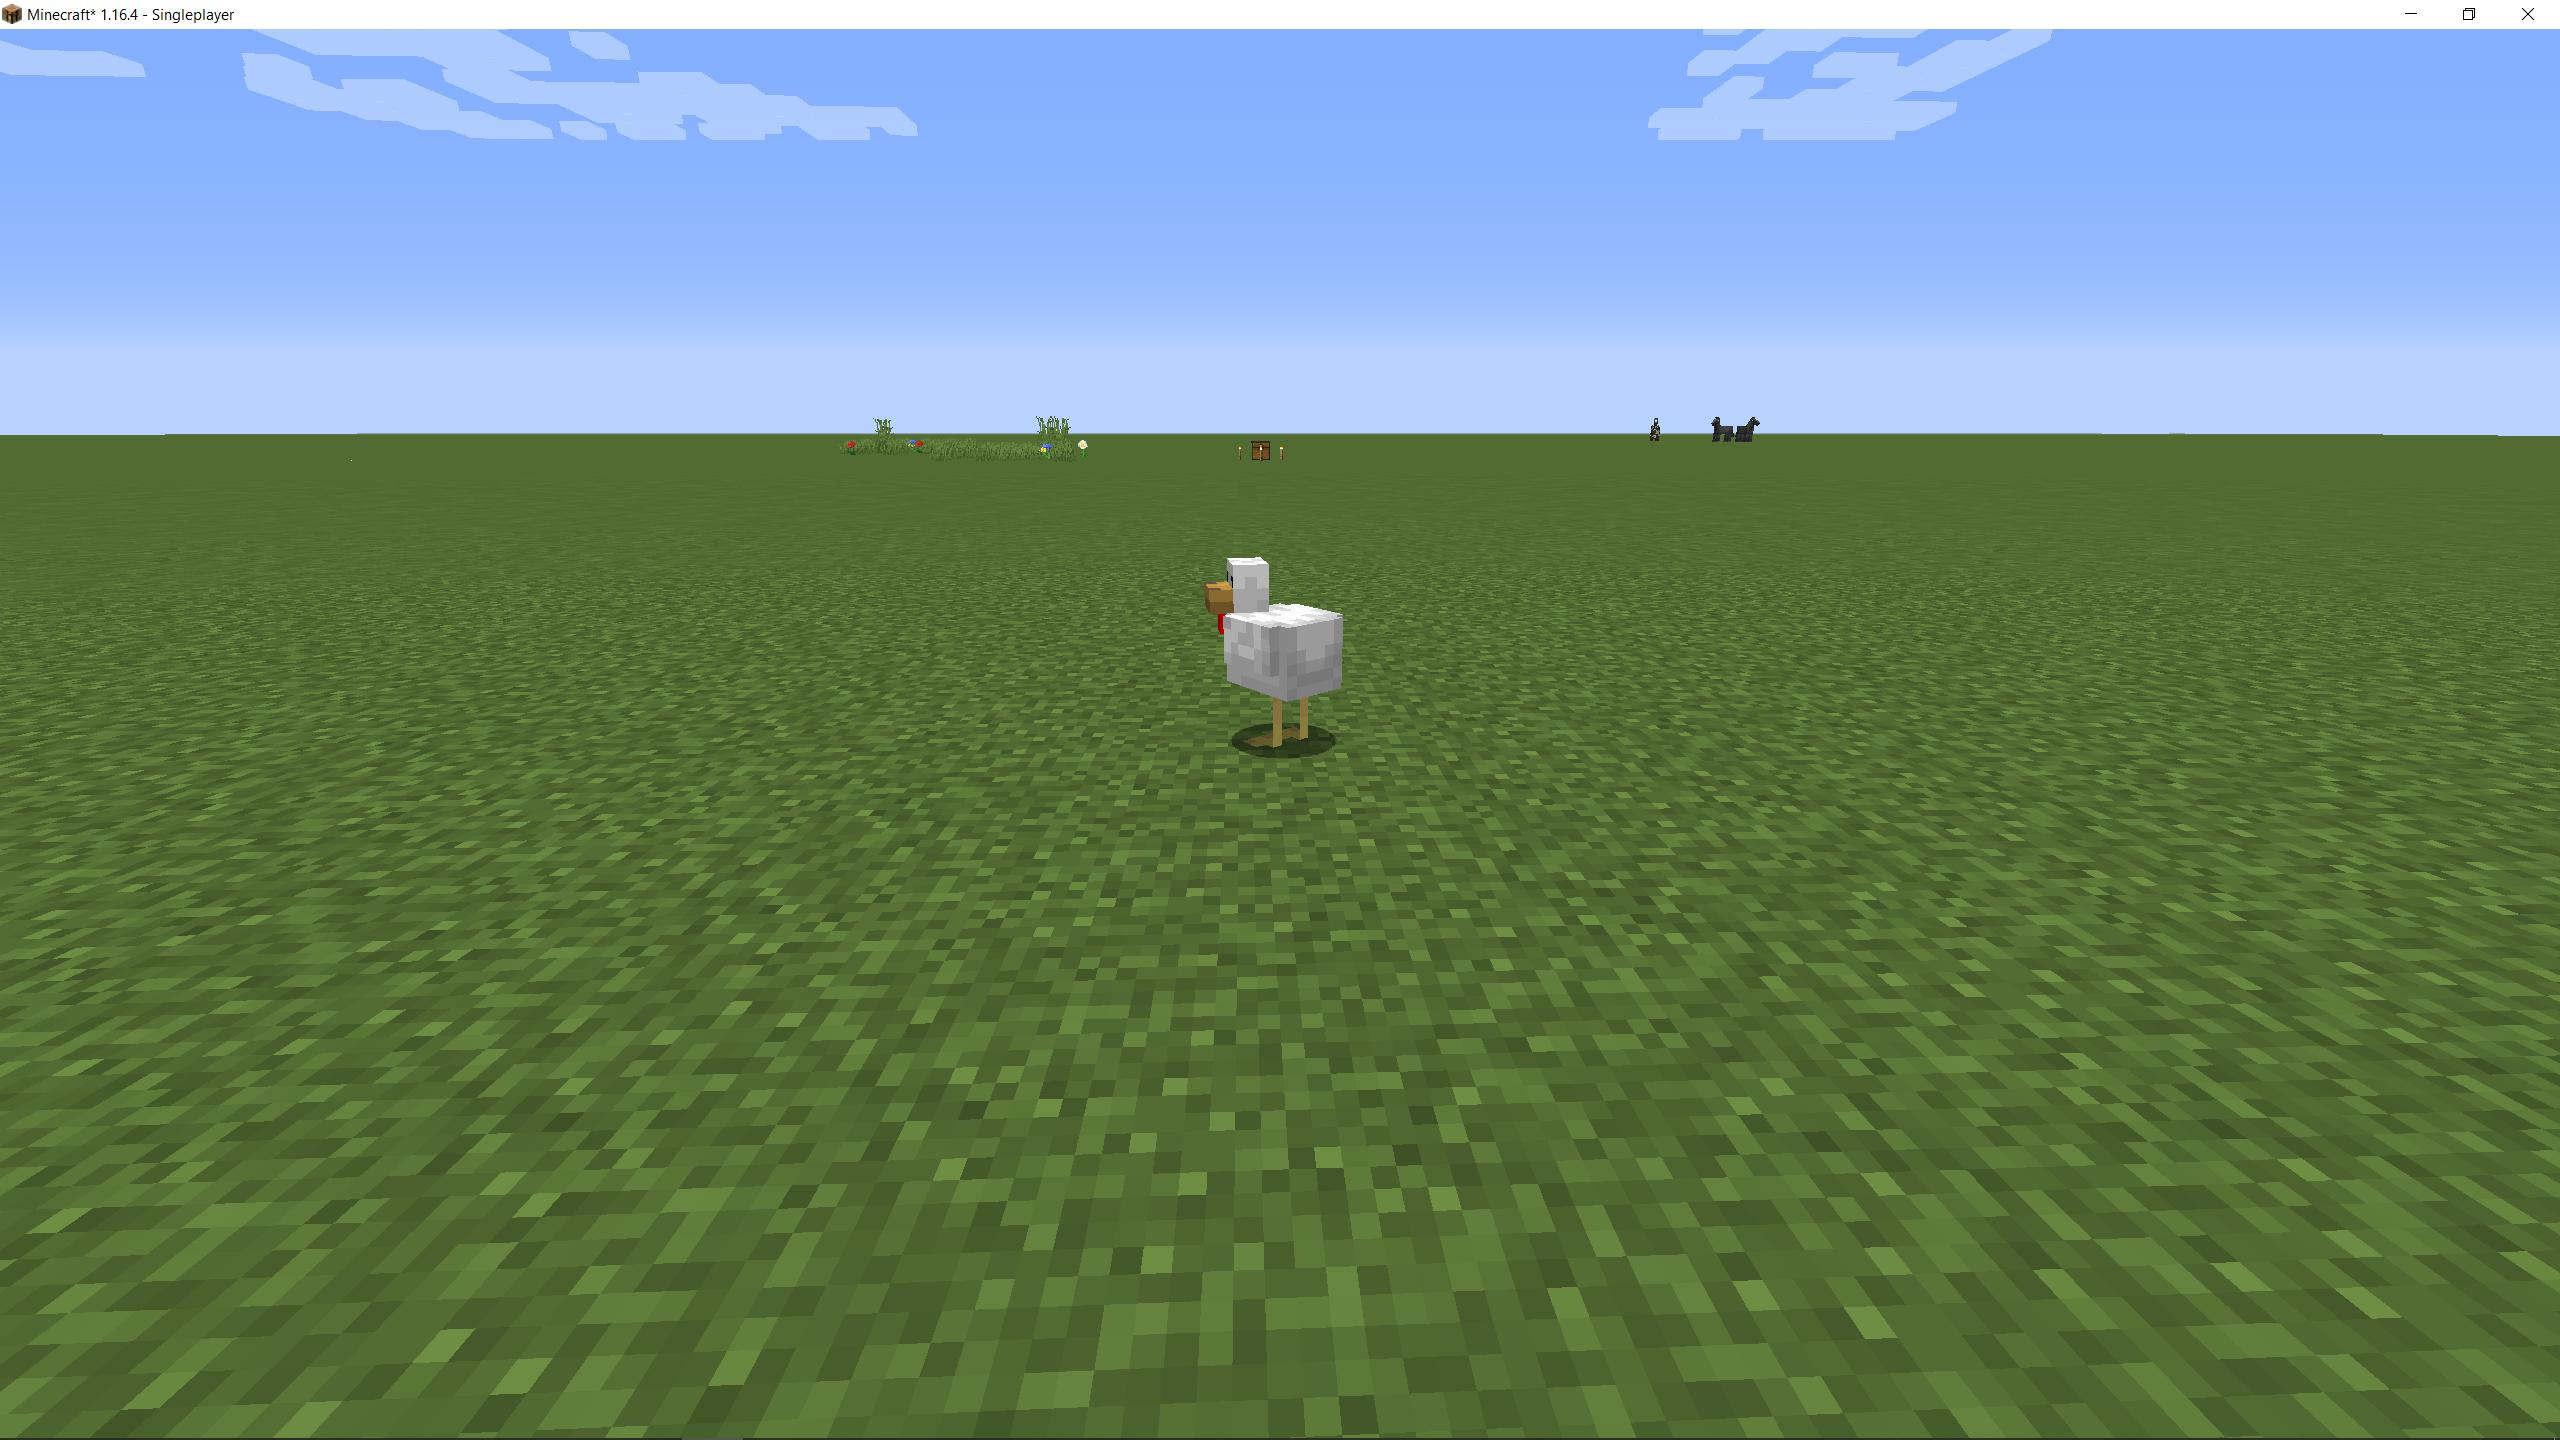chicken: (1196, 556, 1347, 754)
